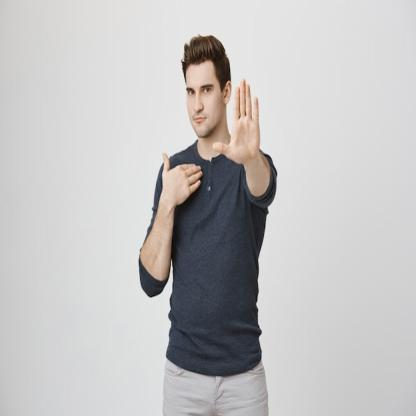stop: (211, 76, 263, 169)
